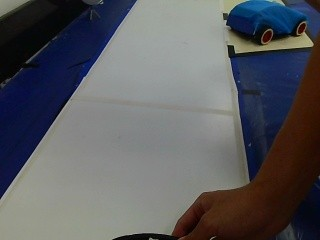car: (225, 0, 309, 46)
